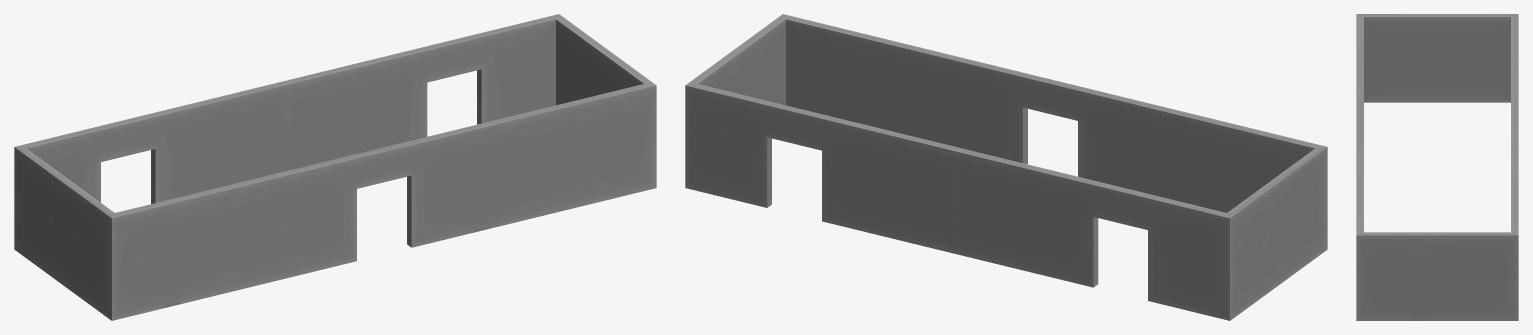
The model's file is StartHouseWalls.fbx.
3 renders of one model, left to right at view 1: azimuth 30°, elevation 25°; view 2: azimuth 150°, elevation 25°; view 3: azimuth 270°, elevation 25°, orthographic. The views are drawn at different scales.
Visible parts, largest first — view 1: Low_House_Walls_Retry; view 2: Low_House_Walls_Retry; view 3: Low_House_Walls_Retry.
Part boxes in pixels (x1=…): Low_House_Walls_Retry: x1=14, y1=14, x2=656, y2=320; Low_House_Walls_Retry: x1=685, y1=14, x2=1327, y2=320; Low_House_Walls_Retry: x1=1356, y1=14, x2=1518, y2=320.
Bounding box in the file's own units: 2000 × 360 × 621.
1 material, 1 textured.
